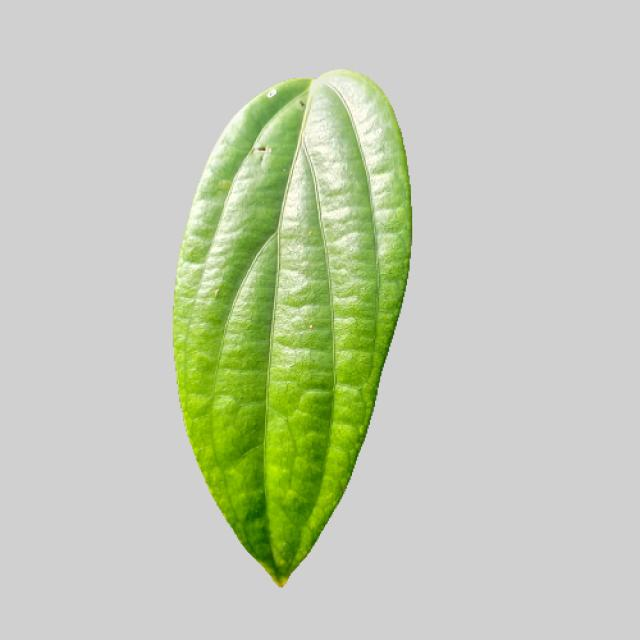healthy: (165, 64, 415, 596)
